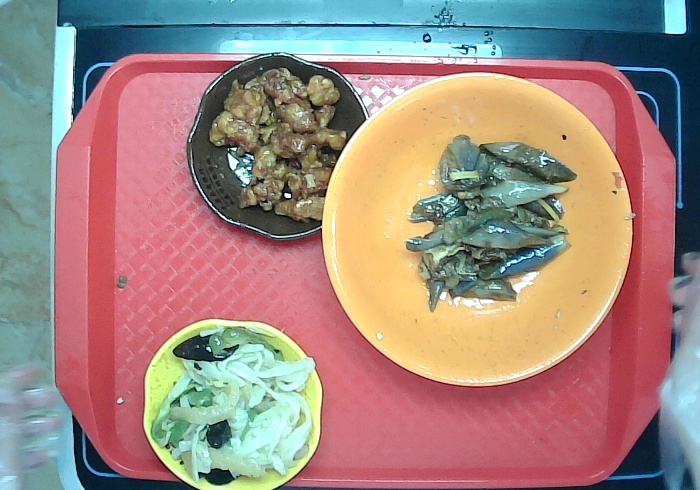YKMZ-Huang_Se_Ao_Bian_Wan: (138, 314, 322, 490)
YKMZ-Ju_Se_Tang_Wan: (323, 70, 632, 385)
YKMZ-Ka_Fei_Ao_Bian_Wan: (183, 50, 358, 245)
